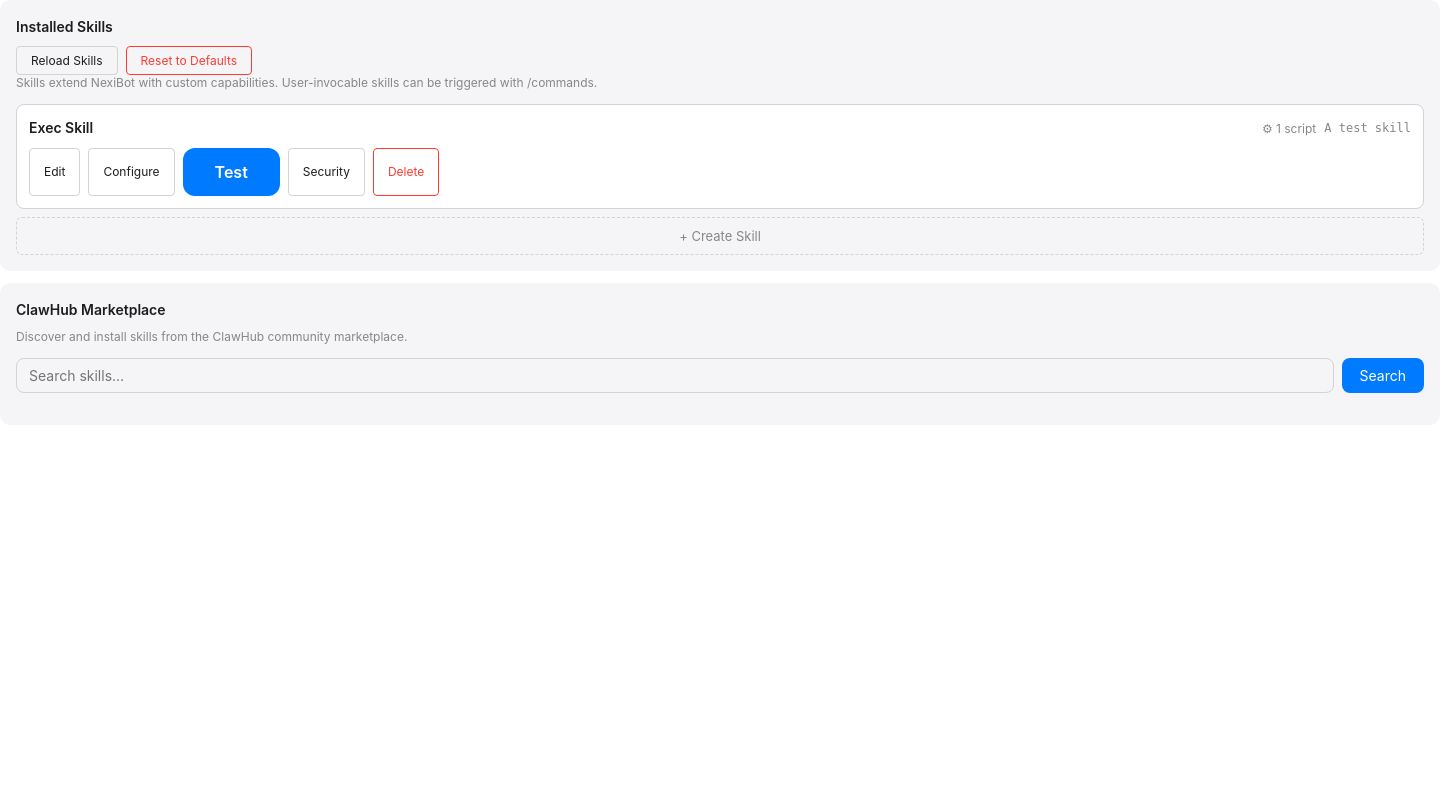
Test: Config editor fields › shows timeout input with default value
The width and height of the screenshot is (1440, 810).
Click the button "Configure". click: (132, 172)
box: [88,148,175,196]
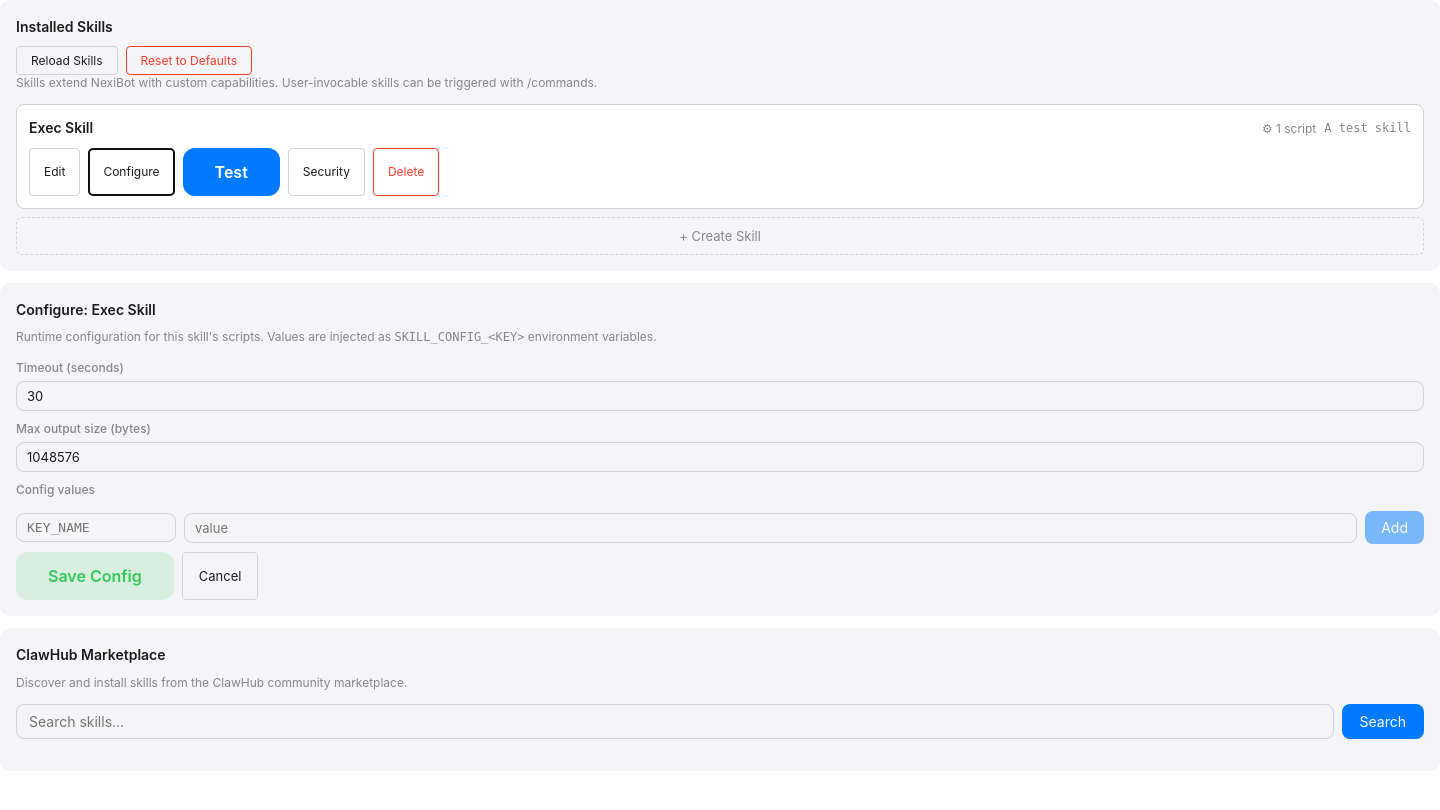
Expected: the heading "Configure: Exec Skill" is shown, [16,301,156,318]
Expected: the number field showing "30" is shown, [16,381,1424,411]
